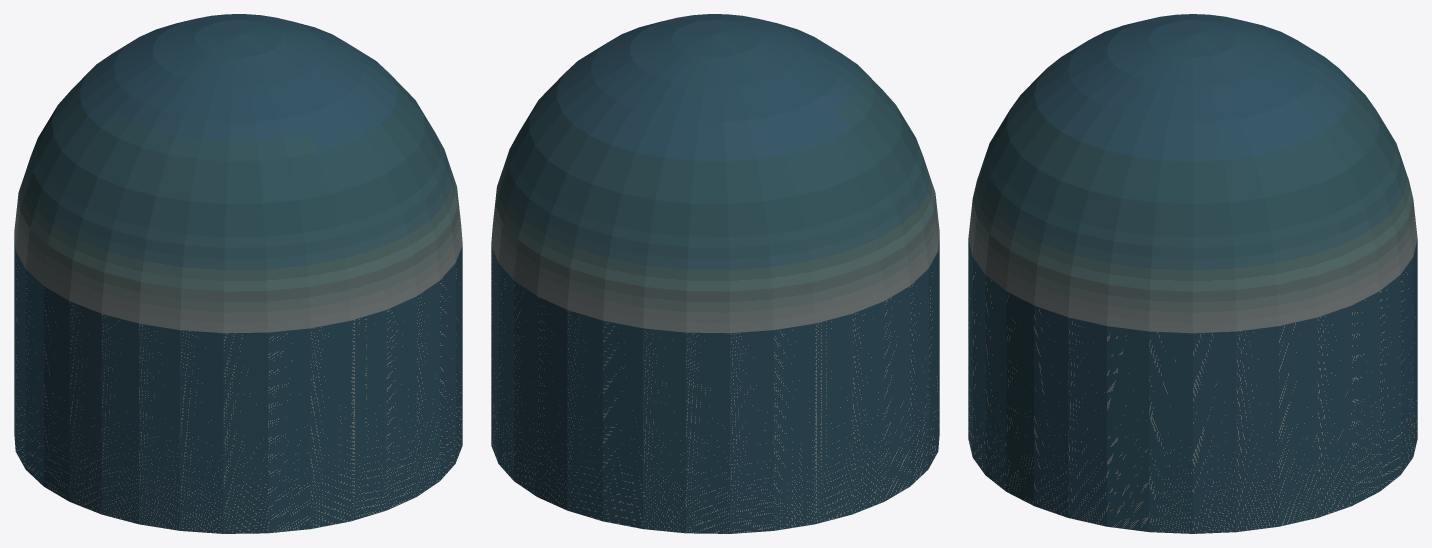
File: R_S_Combat.fbx
3 renders of one model, left to right at view 1: azimuth 30°, elevation 25°; view 2: azimuth 150°, elevation 25°; view 3: azimuth 270°, elevation 25°, orthographic.
Visible parts, largest first — view 1: Sky; view 2: Sky; view 3: Sky.
Boxes of the visible parts, bbox=[...] form: Sky: bbox=[14, 14, 462, 533]; Sky: bbox=[491, 14, 939, 533]; Sky: bbox=[968, 14, 1417, 533].
Bounding box in the file's own units: 200 × 199 × 200.
8 materials, 8 textured.
